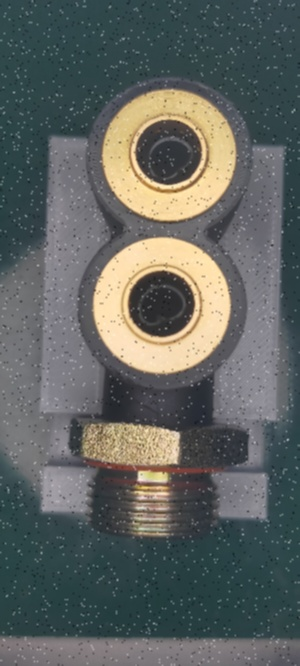craze: (131, 398, 162, 416)
off-centered: (133, 273, 194, 330), (145, 130, 202, 184)
